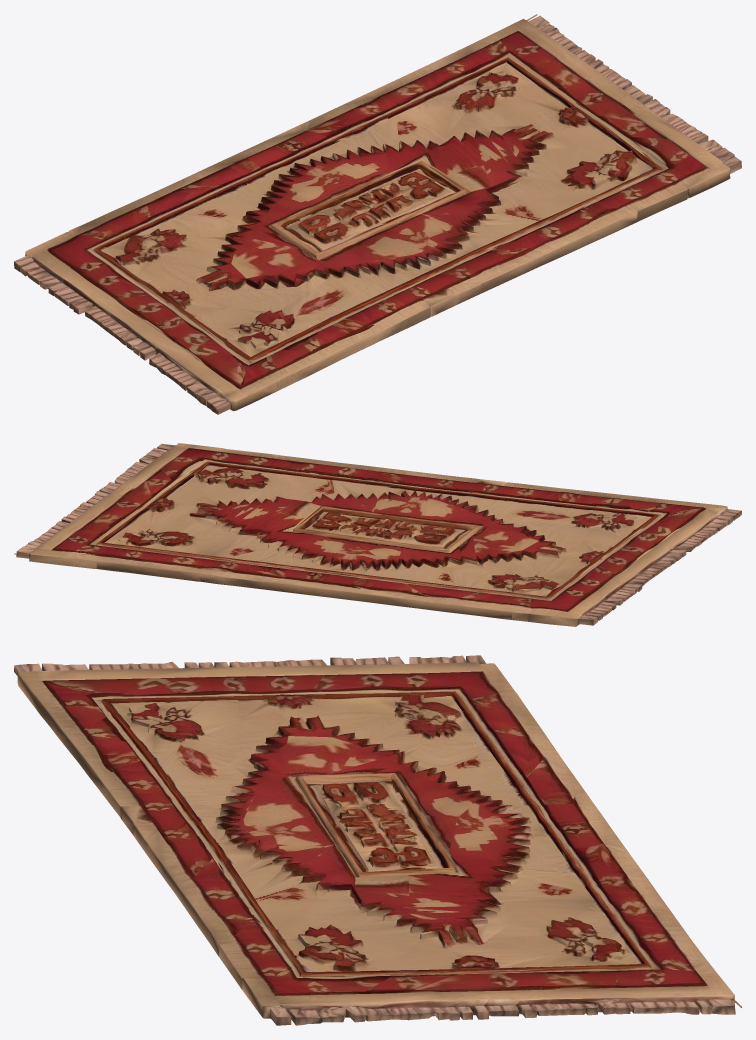
Rendered from decor_rug_idle.glb.
3 renders of one model, top to bottom at view 1: azimuth 30°, elevation 25°; view 2: azimuth 150°, elevation 25°; view 3: azimuth 270°, elevation 25°, orthographic. The views are drawn at different scales.
Visible parts, largest first — view 1: tripo_node_61da9813-f580-4a22-b9cc-4132536e8081; view 2: tripo_node_61da9813-f580-4a22-b9cc-4132536e8081; view 3: tripo_node_61da9813-f580-4a22-b9cc-4132536e8081.
Boxes of the visible parts, x1,y1,x2,y2 form: tripo_node_61da9813-f580-4a22-b9cc-4132536e8081: (14,14,741,414); tripo_node_61da9813-f580-4a22-b9cc-4132536e8081: (14,443,741,626); tripo_node_61da9813-f580-4a22-b9cc-4132536e8081: (14,655,741,1025).
Size of the model in its own units: 2 by 0.0858 by 1.66.
1 material, 1 textured.
